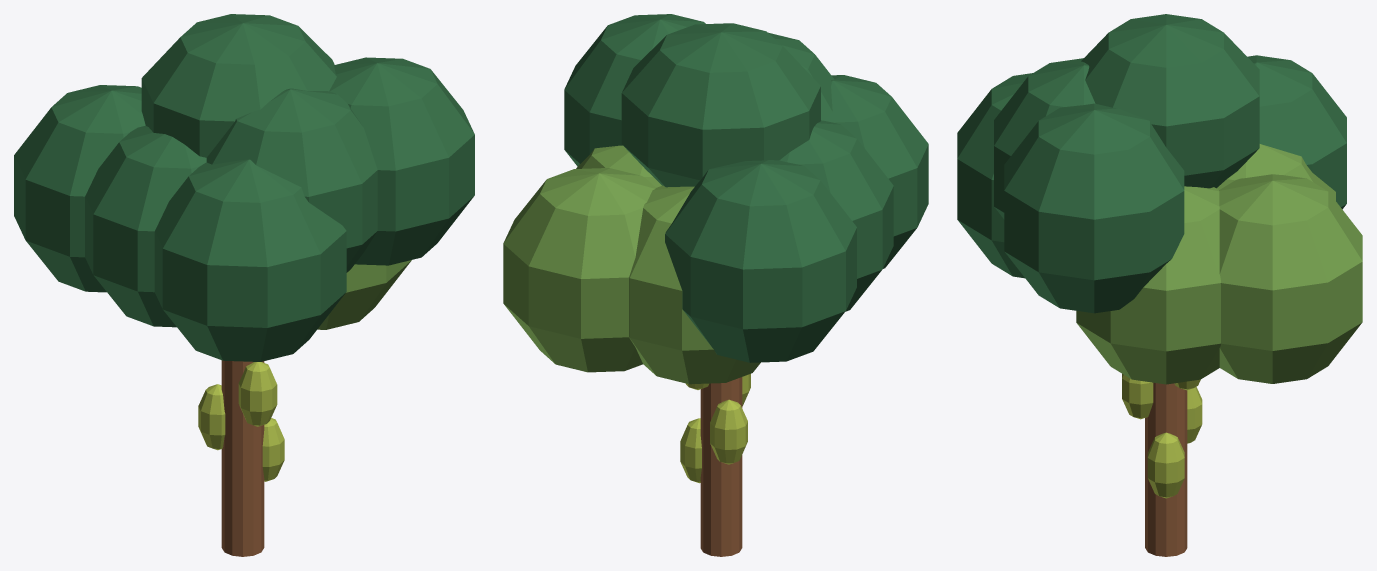
File: 034_jackfruit_tree.glb
The picture shows the model from 3 angles, left to right: view 1: azimuth 30°, elevation 25°; view 2: azimuth 150°, elevation 25°; view 3: azimuth 270°, elevation 25°; orthographic projection.
Parts seen in each view (by area): view 1: Jackfruit tree; view 2: Jackfruit tree; view 3: Jackfruit tree.
Part boxes in pixels (x1,y1,x2,y2): Jackfruit tree: [14, 14, 474, 556]; Jackfruit tree: [503, 14, 928, 556]; Jackfruit tree: [957, 14, 1362, 556].
Bounding box in the file's own units: 4.62 × 6.5 × 4.56.
